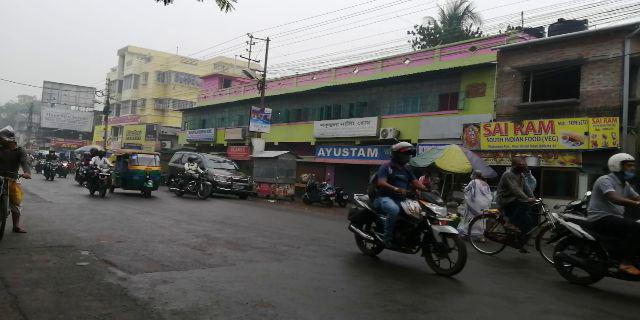Autorickshaw: (120, 147, 163, 200)
Car: (171, 146, 253, 197)
Cycle: (466, 152, 568, 268)
Motorbike: (349, 141, 470, 275), (553, 151, 640, 291), (169, 158, 214, 200), (86, 147, 111, 201)
